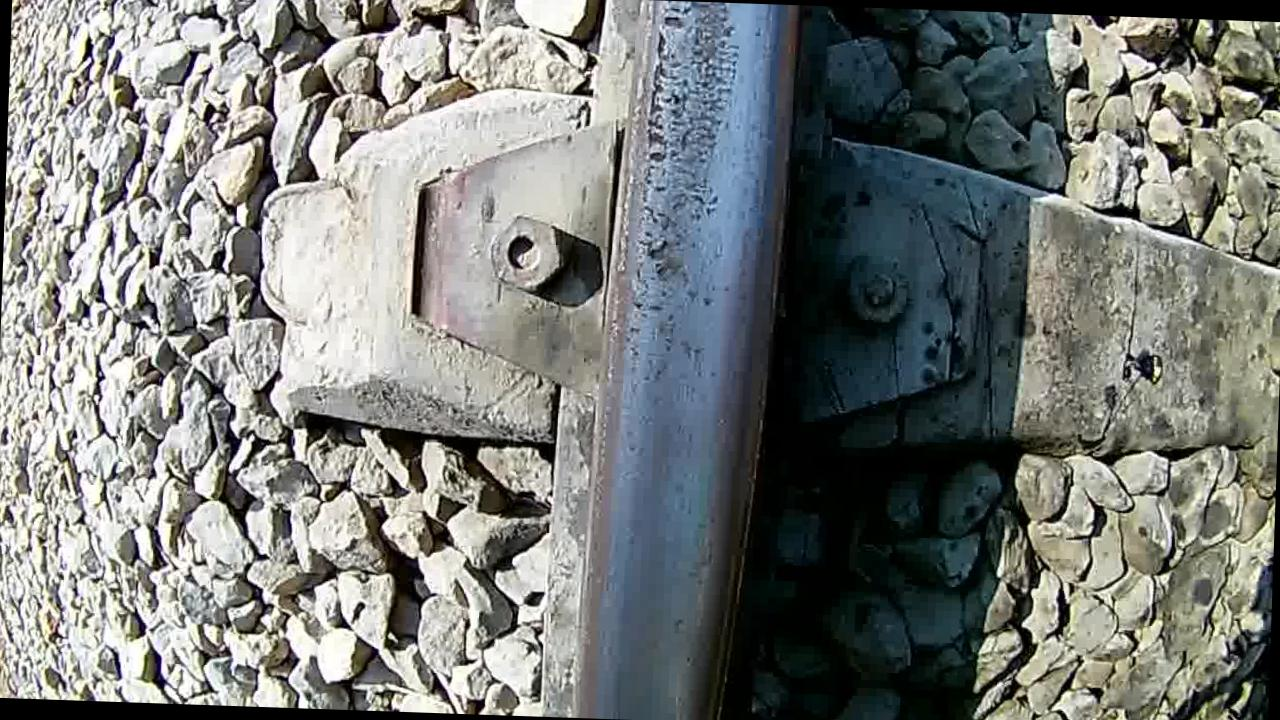crack: (574, 0, 781, 716)
